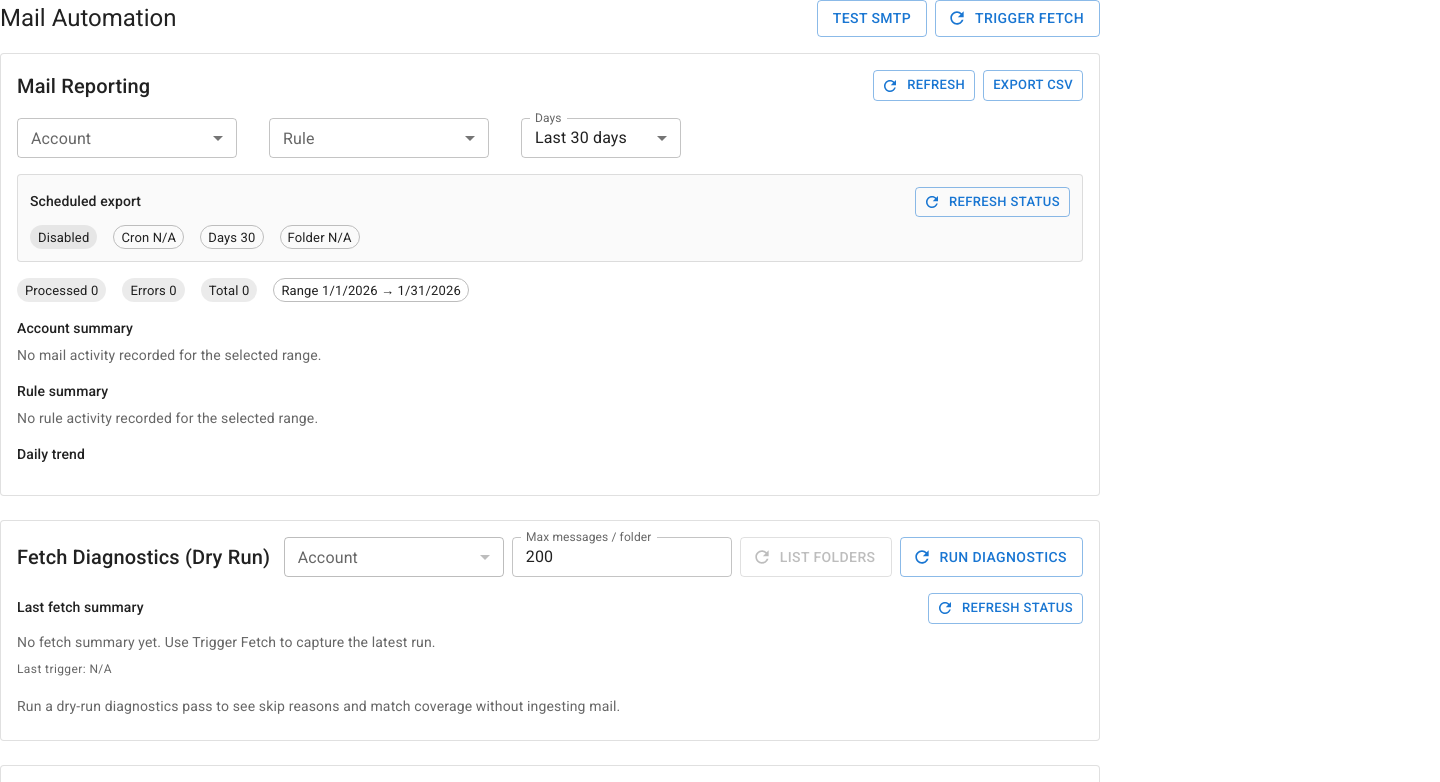
MailAutomationPage Test SMTP dialog › renders configured fallback labels when optional SMTP fields are null
Step 1. Click the button "Test SMTP" → (872, 18), box [817,0,927,36]
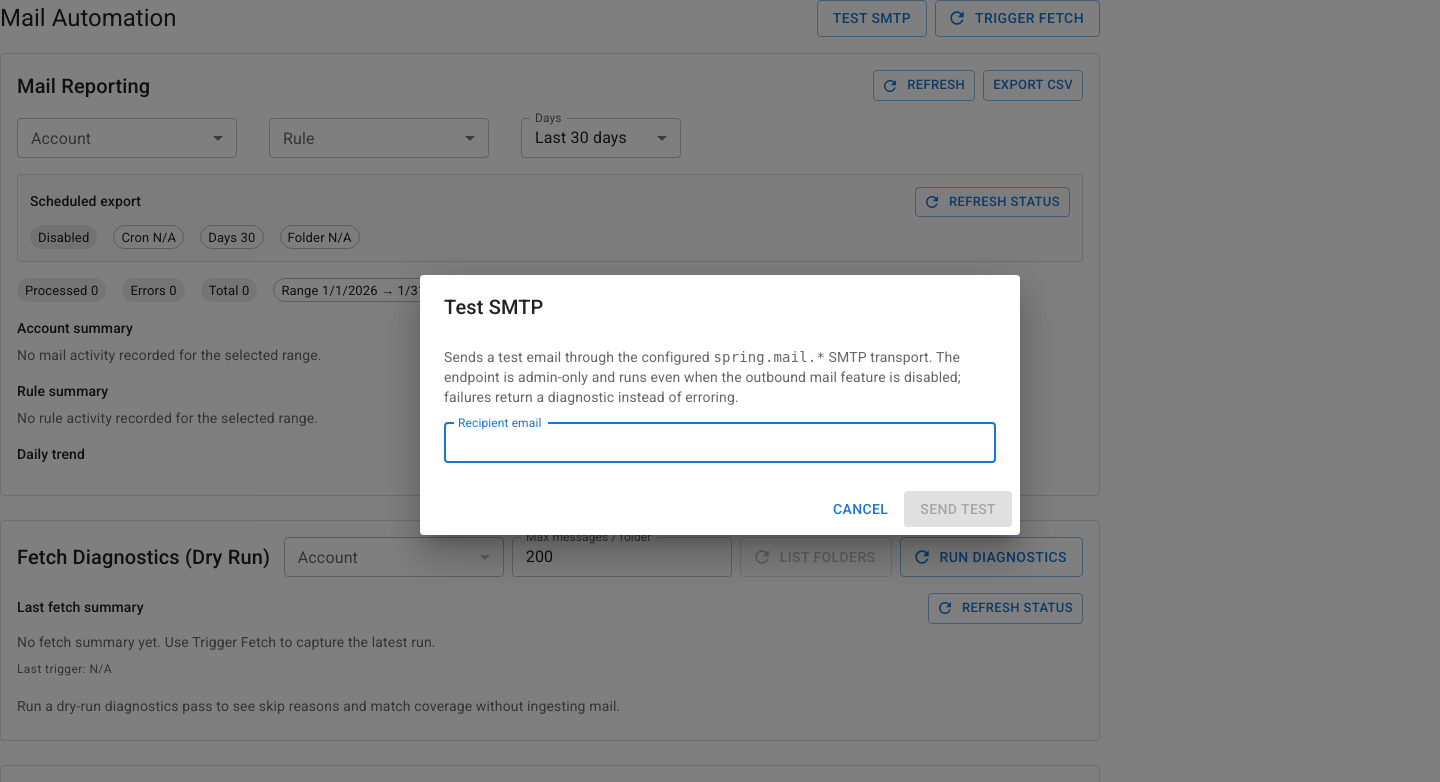
Step 2. Type "ops@example.com" into the field labelled "Recipient email" → (720, 443), box [444,423,996,463]
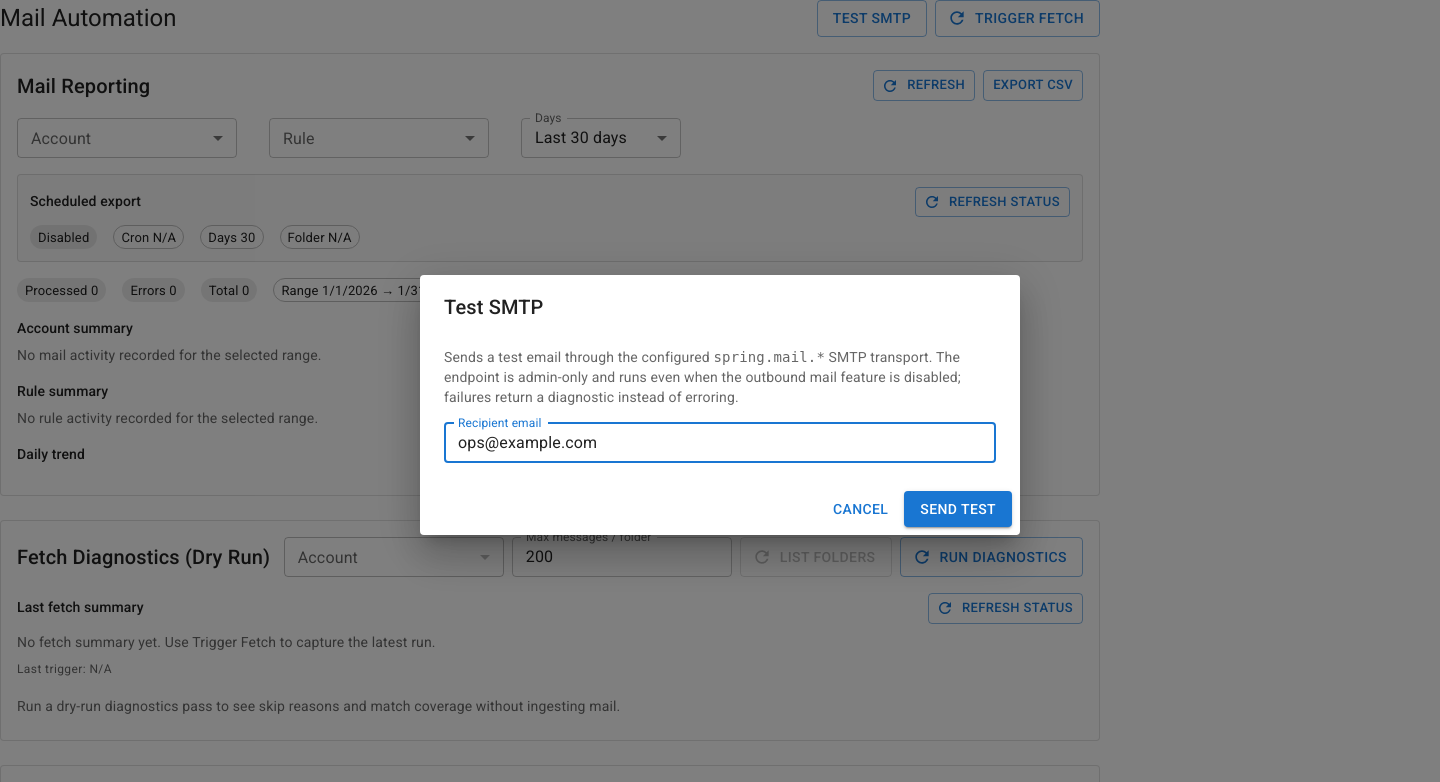
Step 3. Click the button "Send test" → (958, 509), box [904,491,1012,527]
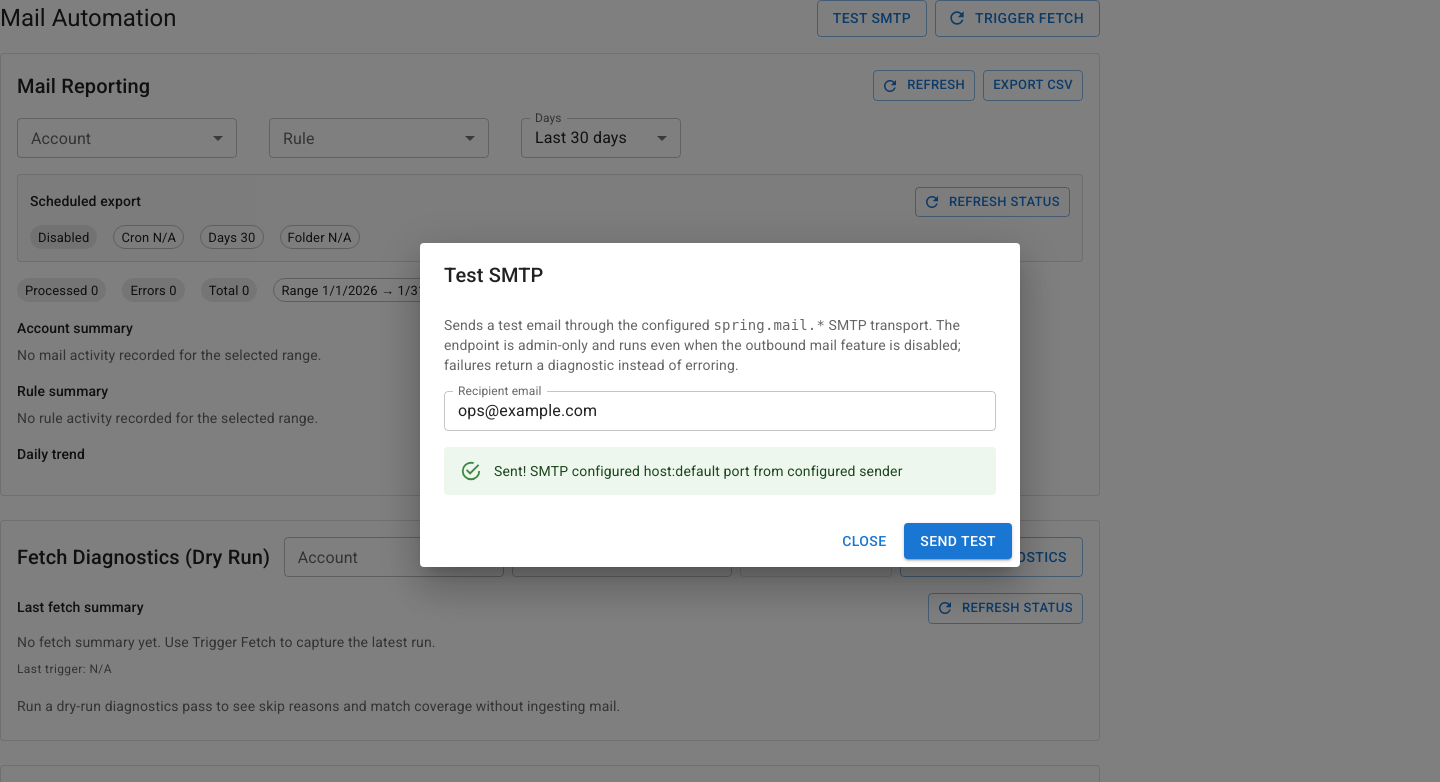
Now the message with test id "test-smtp-success" shows "configured host", box [494,463,902,479]
Now the message with test id "test-smtp-success" shows "default port", box [494,463,902,479]
Now the message with test id "test-smtp-success" shows "configured sender", box [494,463,902,479]
